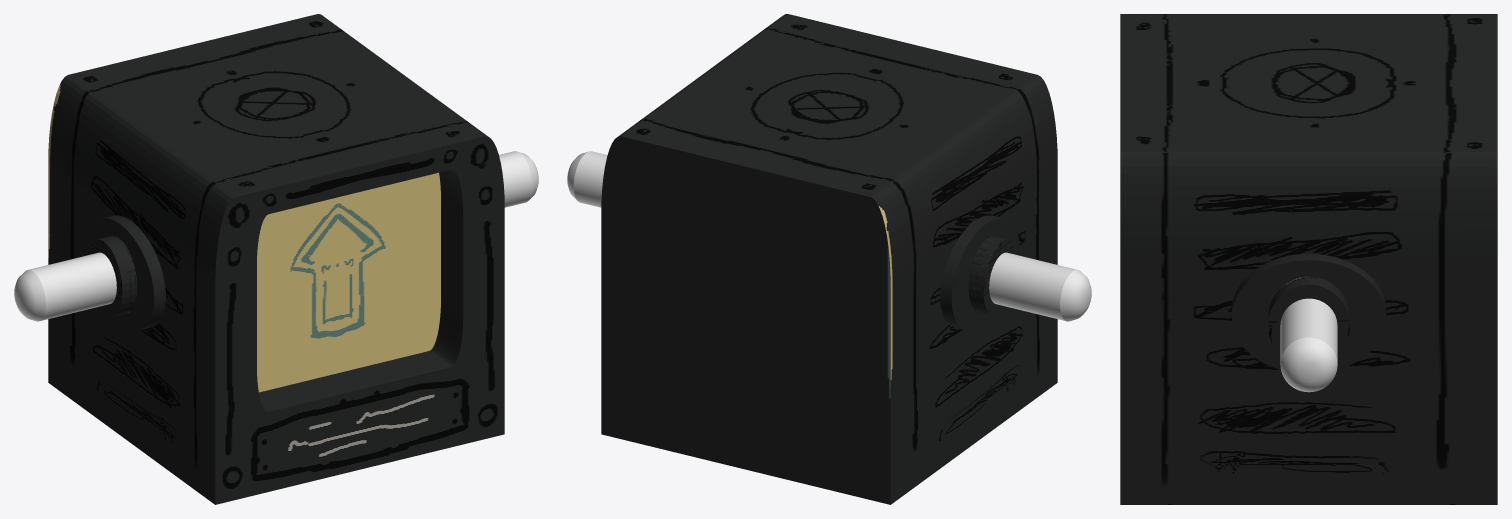
File: 장애물2.fbx
The picture shows the model from 3 angles, left to right: view 1: azimuth 30°, elevation 25°; view 2: azimuth 150°, elevation 25°; view 3: azimuth 270°, elevation 25°; orthographic projection. The views are drawn at different scales.
Parts seen in each view (by area): view 1: 실린더, 조명.001, 조명; view 2: 실린더, 조명.001, 조명; view 3: 실린더, 조명.
Boxes of the visible parts, left/top/right/bottom form: 실린더: left=48, top=14, right=504, bottom=504; 조명.001: left=14, top=215, right=165, bottom=330; 조명: left=499, top=151, right=538, bottom=207; 실린더: left=601, top=14, right=1057, bottom=504; 조명.001: left=940, top=215, right=1091, bottom=330; 조명: left=567, top=151, right=607, bottom=207; 실린더: left=1120, top=14, right=1497, bottom=504; 조명: left=1231, top=253, right=1386, bottom=392.
Size of the model in its own units: 3.55 by 2 by 2.
3 materials, 1 textured.
